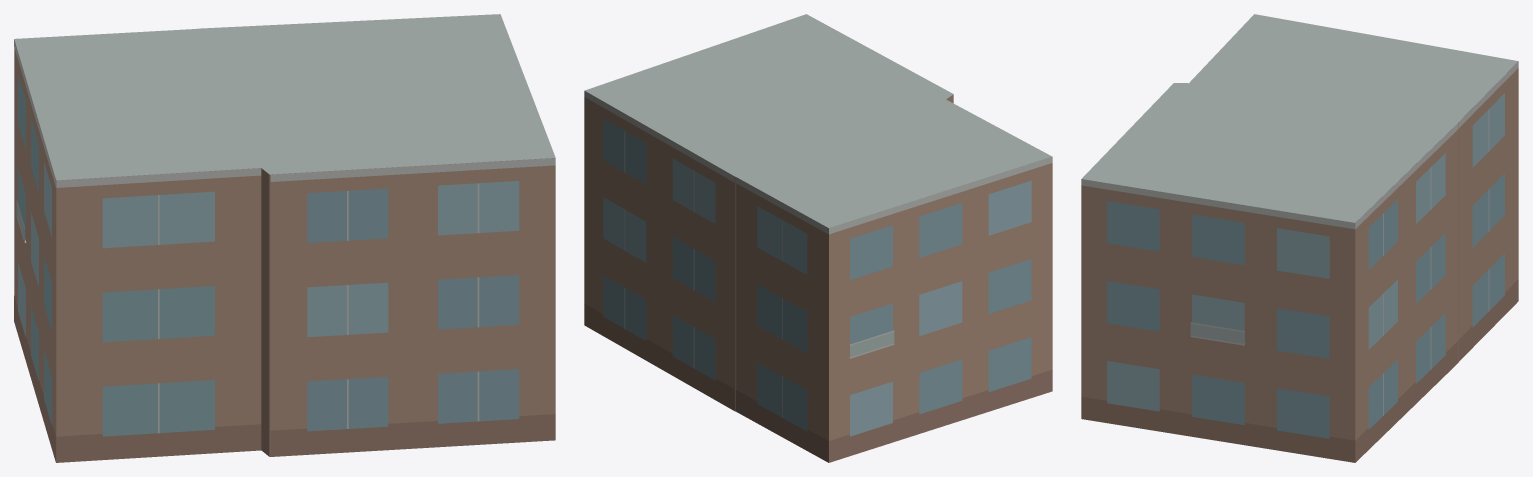
File: survey-upis-32527739.glb
3 views of the same model, side by side, from view 1: azimuth 30°, elevation 25°; view 2: azimuth 150°, elevation 25°; view 3: azimuth 270°, elevation 25° (orthographic). The views are drawn at different scales.
Visible parts, largest first — view 1: survey-upis-32527739.tmp; view 2: survey-upis-32527739.tmp; view 3: survey-upis-32527739.tmp.
Boxes of the visible parts, x1,y1,x2,y2 form: survey-upis-32527739.tmp: [14, 14, 555, 462]; survey-upis-32527739.tmp: [584, 14, 1052, 462]; survey-upis-32527739.tmp: [1081, 14, 1518, 462].
Size of the model in its own units: 17.09 by 9.15 by 15.12.
